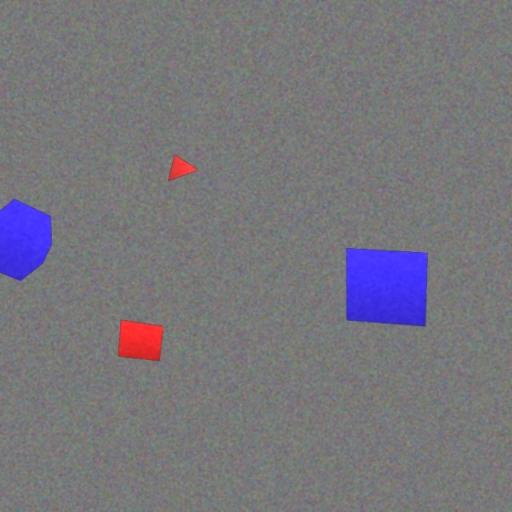BLUE_SQUARE: (346, 248, 428, 327)
RED_SQUARE: (118, 319, 164, 362)
